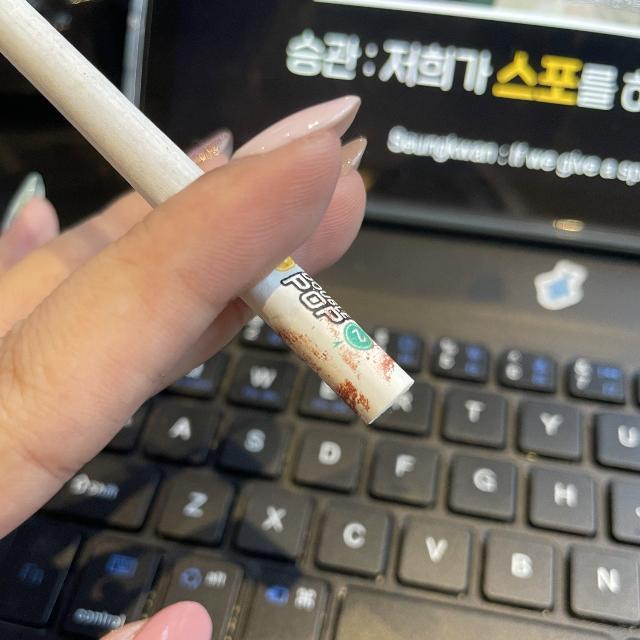rokok: (4, 1, 416, 432)
